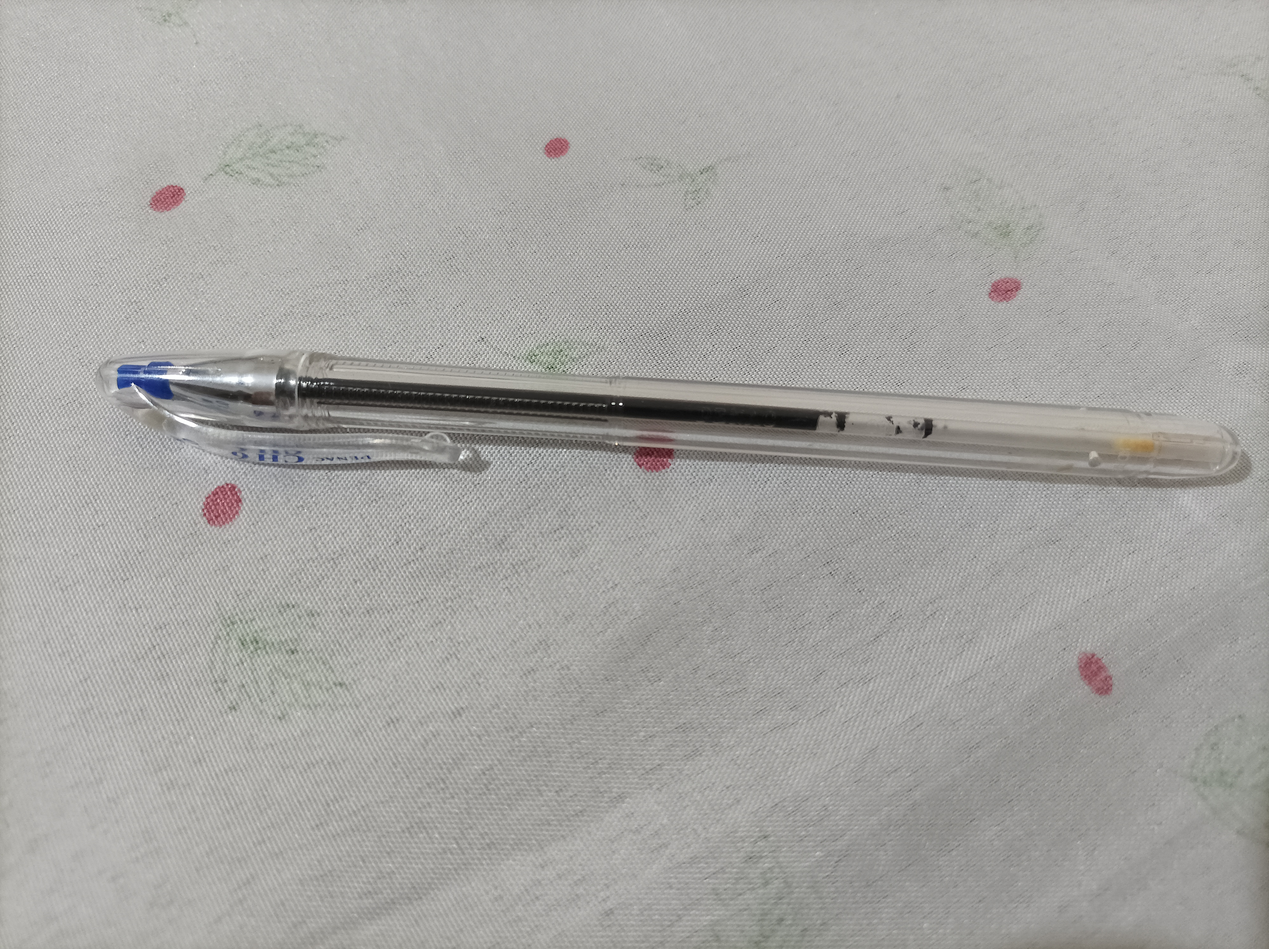plastic: (99, 365, 1260, 485)
